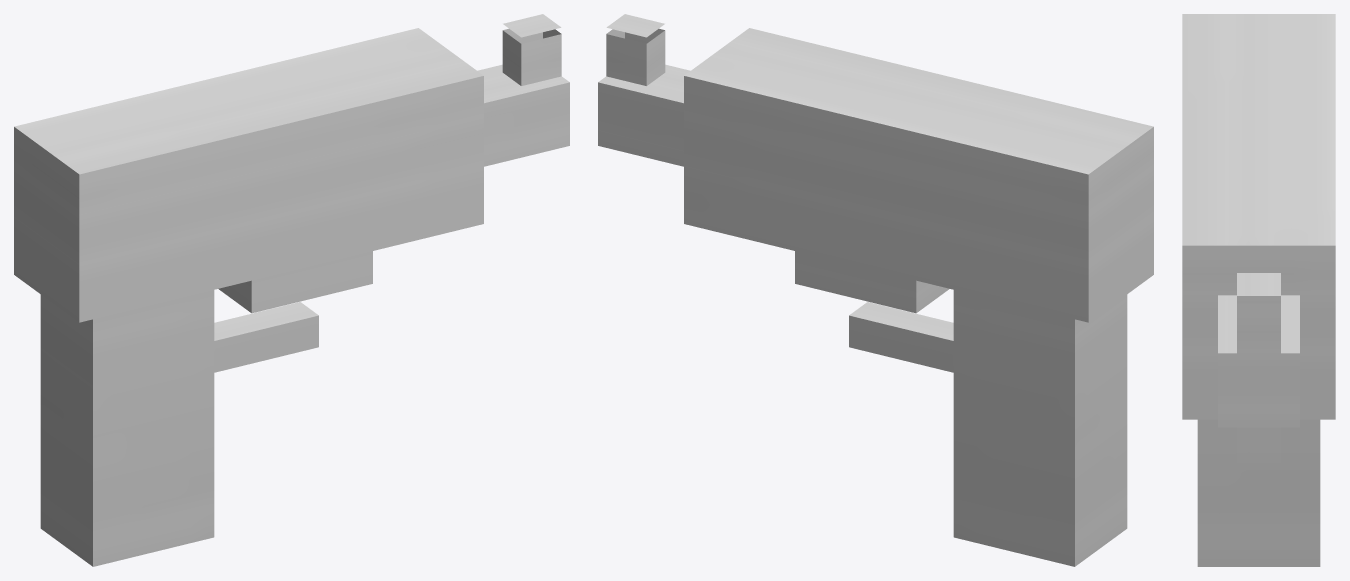
Rendered from pistol.obj.
3 renders of one model, left to right at view 1: azimuth 30°, elevation 25°; view 2: azimuth 150°, elevation 25°; view 3: azimuth 270°, elevation 25°, orthographic. The views are drawn at different scales.
Parts seen in each view (by area): view 1: pistol; view 2: pistol; view 3: pistol.
Boxes of the visible parts, left/top/right/bottom form: pistol: left=14, top=14, right=569, bottom=566; pistol: left=598, top=14, right=1153, bottom=566; pistol: left=1182, top=14, right=1335, bottom=566.
Size of the model in its own units: 0.25 by 0.193 by 0.056.
